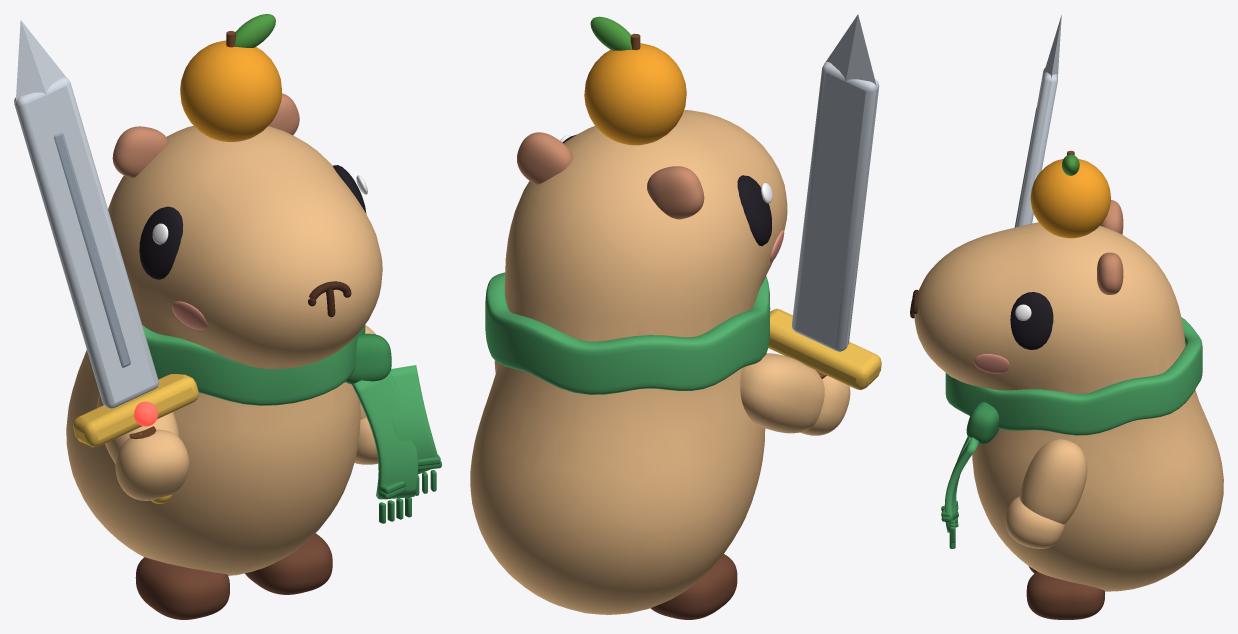
The model's file is Kapi.fbx.
The picture shows the model from 3 angles, left to right: view 1: azimuth 30°, elevation 25°; view 2: azimuth 150°, elevation 25°; view 3: azimuth 270°, elevation 25°; orthographic projection. The views are drawn at different scales.
Parts seen in each view (by area): view 1: Body, Sword, Arm_R, Leg_R, Leg_L, Arm_L; view 2: Body, Sword, Arm_R, Leg_R; view 3: Body, Arm_L, Sword, Leg_L.
Boxes of the visible parts, left/top/right/bottom form: Body: left=66, top=14, right=441, bottom=575; Sword: left=14, top=20, right=198, bottom=503; Arm_R: left=97, top=393, right=189, bottom=500; Leg_R: left=135, top=557, right=229, bottom=619; Leg_L: left=245, top=533, right=332, bottom=594; Arm_L: left=354, top=325, right=378, bottom=464; Body: left=470, top=16, right=787, bottom=614; Sword: left=768, top=14, right=881, bottom=389; Arm_R: left=740, top=353, right=850, bottom=435; Leg_R: left=650, top=554, right=737, bottom=619; Body: left=910, top=150, right=1223, bottom=591; Arm_L: left=1005, top=439, right=1087, bottom=548; Sword: left=1014, top=15, right=1061, bottom=227; Leg_L: left=1026, top=571, right=1105, bottom=619.
Size of the model in its own units: 0.7004 by 1.12 by 0.6395.
